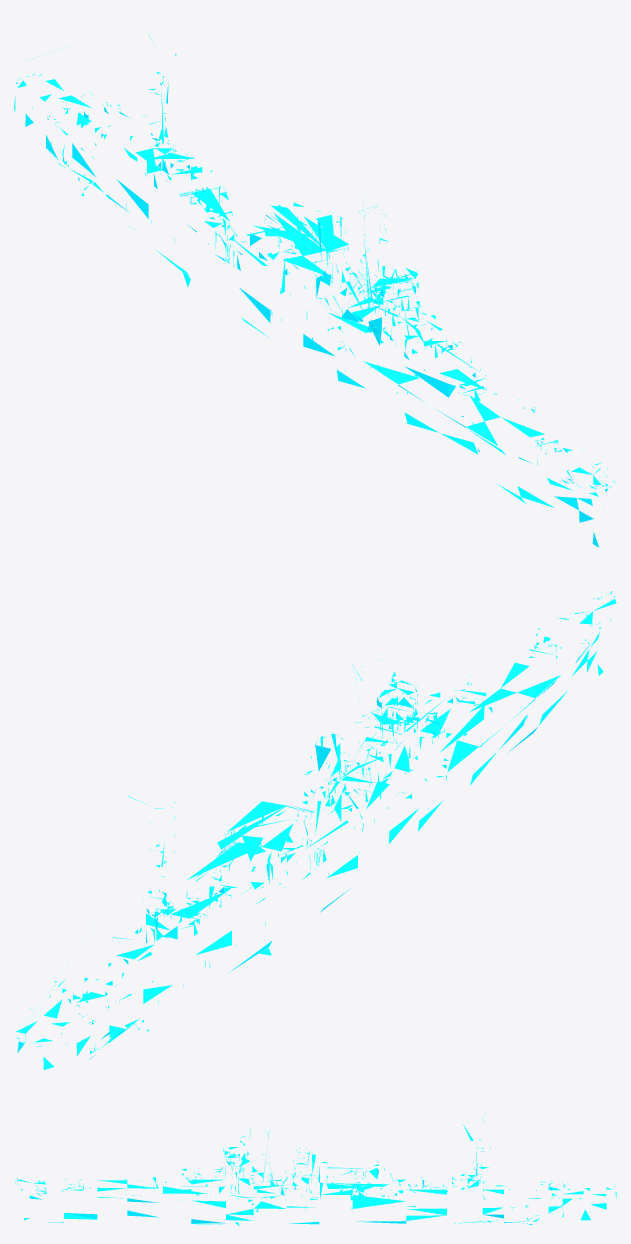
File: Agano.glb
3 renders of one model, top to bottom at view 1: azimuth 30°, elevation 25°; view 2: azimuth 150°, elevation 25°; view 3: azimuth 270°, elevation 25°, orthographic. The views are drawn at different scales.
Size of the model in its own units: 1.11 by 2.28 by 11.6.
